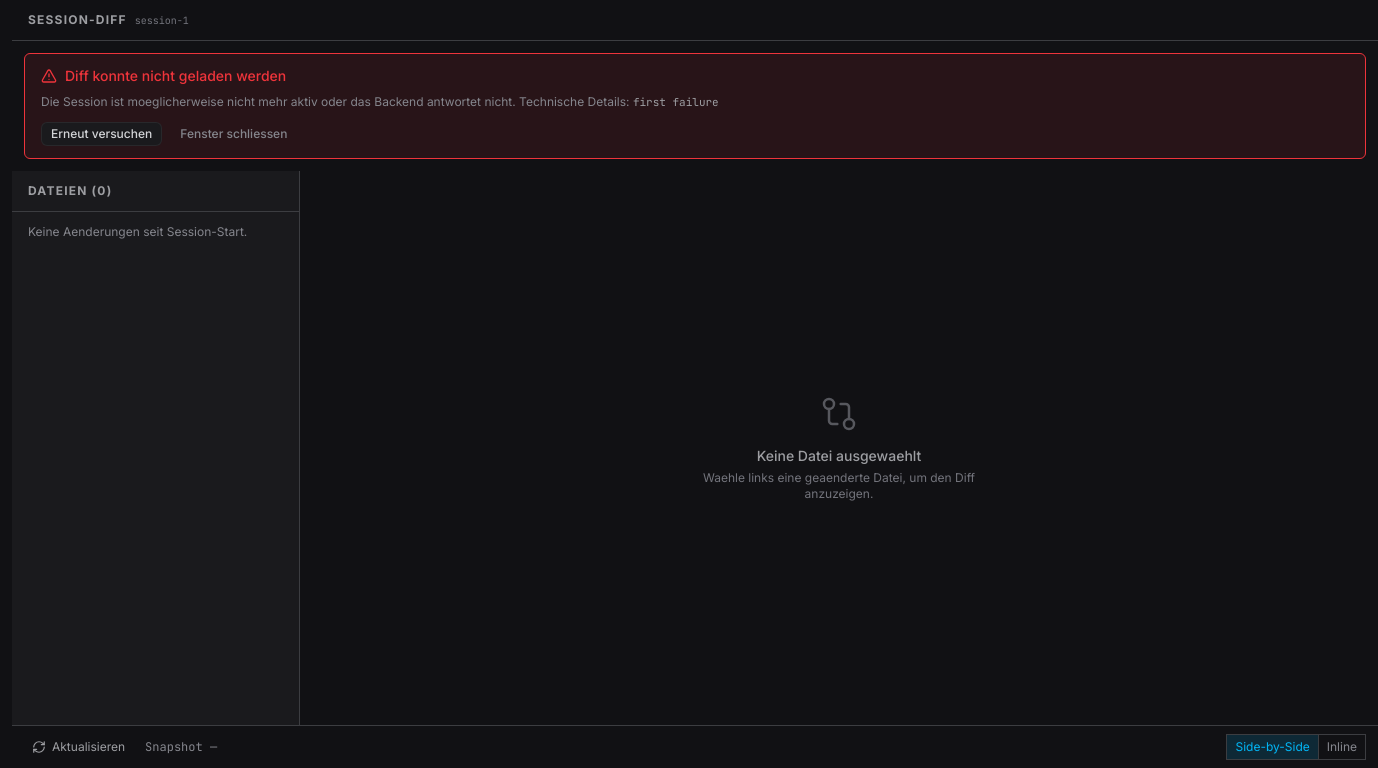
Test: DiffWindowView › clears the previous error when a retry succeeds
The image size is (1378, 768).
Expected: the message shows "first failure", [633, 95, 719, 109]
Click the button "Erneut versuchen": (102, 134) [41, 122, 162, 146]
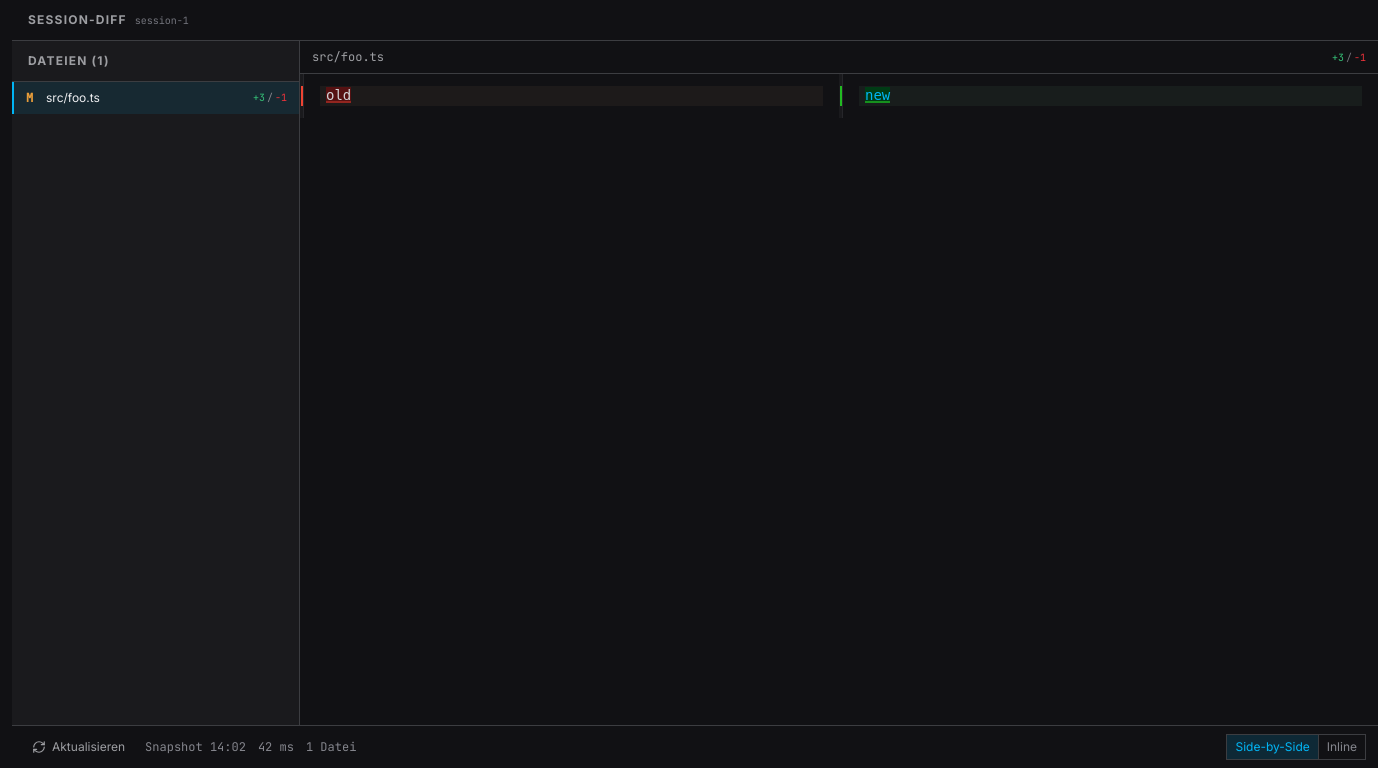
Now the message is gone
